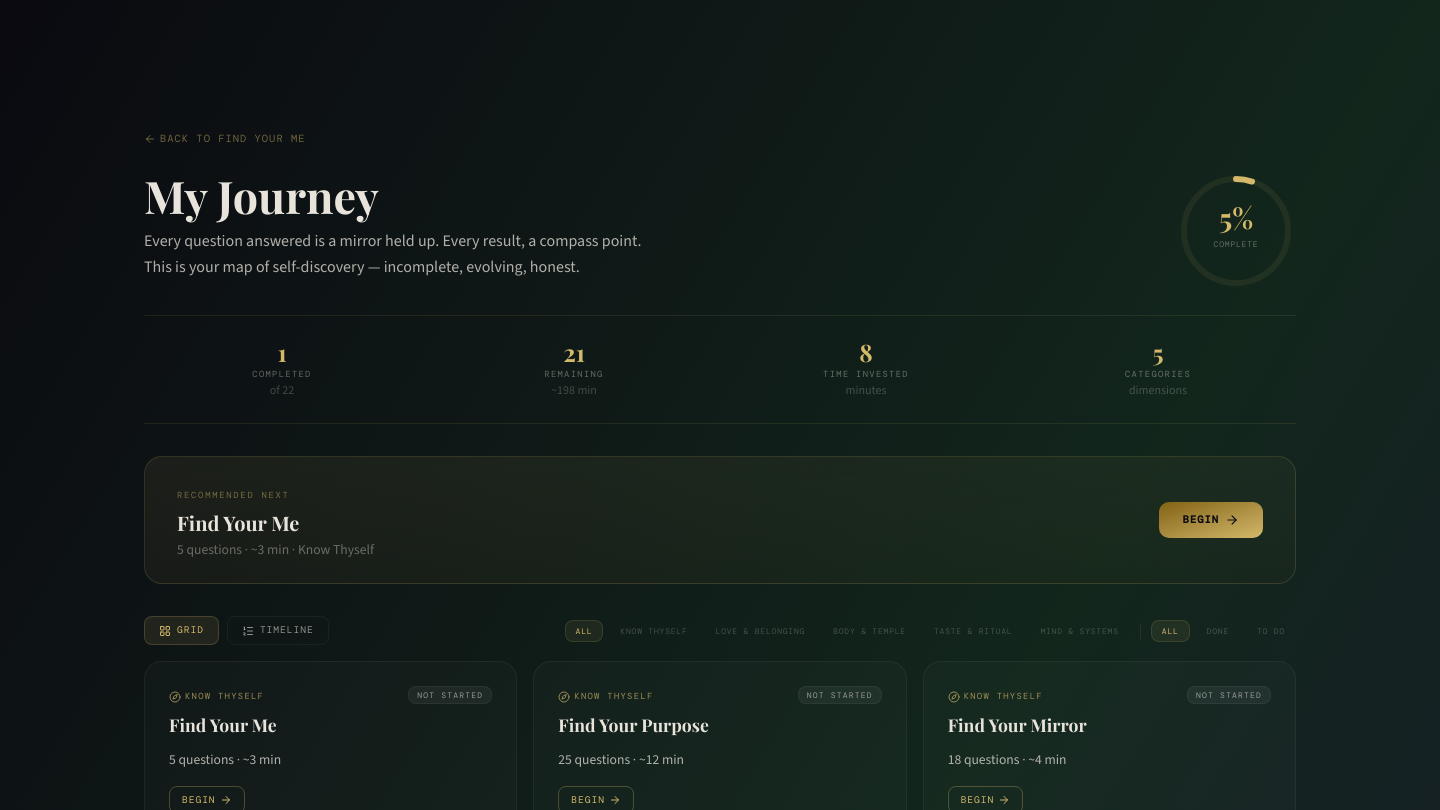
MyJourneyDashboard › filters by category and by status, with an empty-state message in grid view only
Click the button "Body & Temple": x=870, y=631 [822,620,917,642]
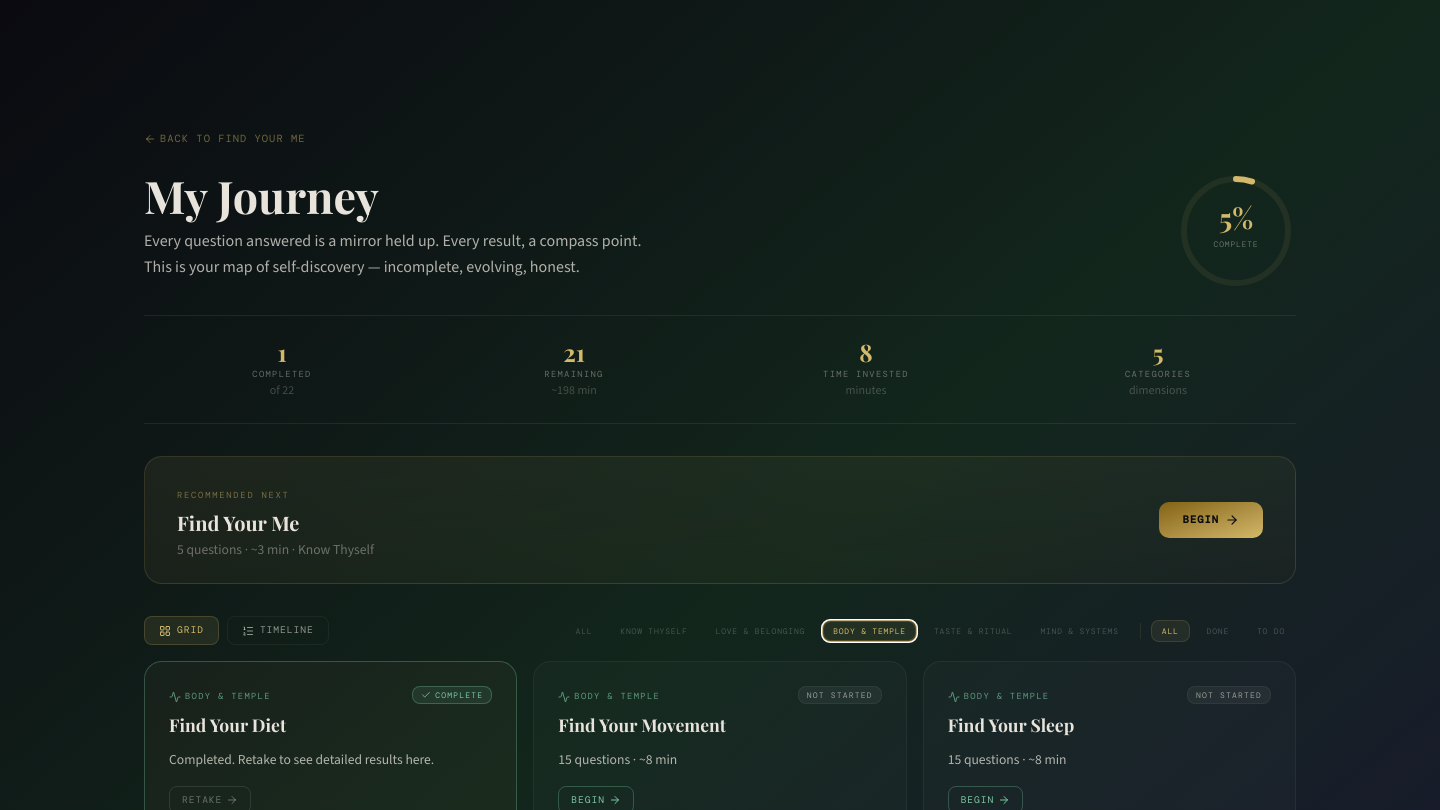
Click the button "Done": x=1218, y=631 [1196,620,1240,642]
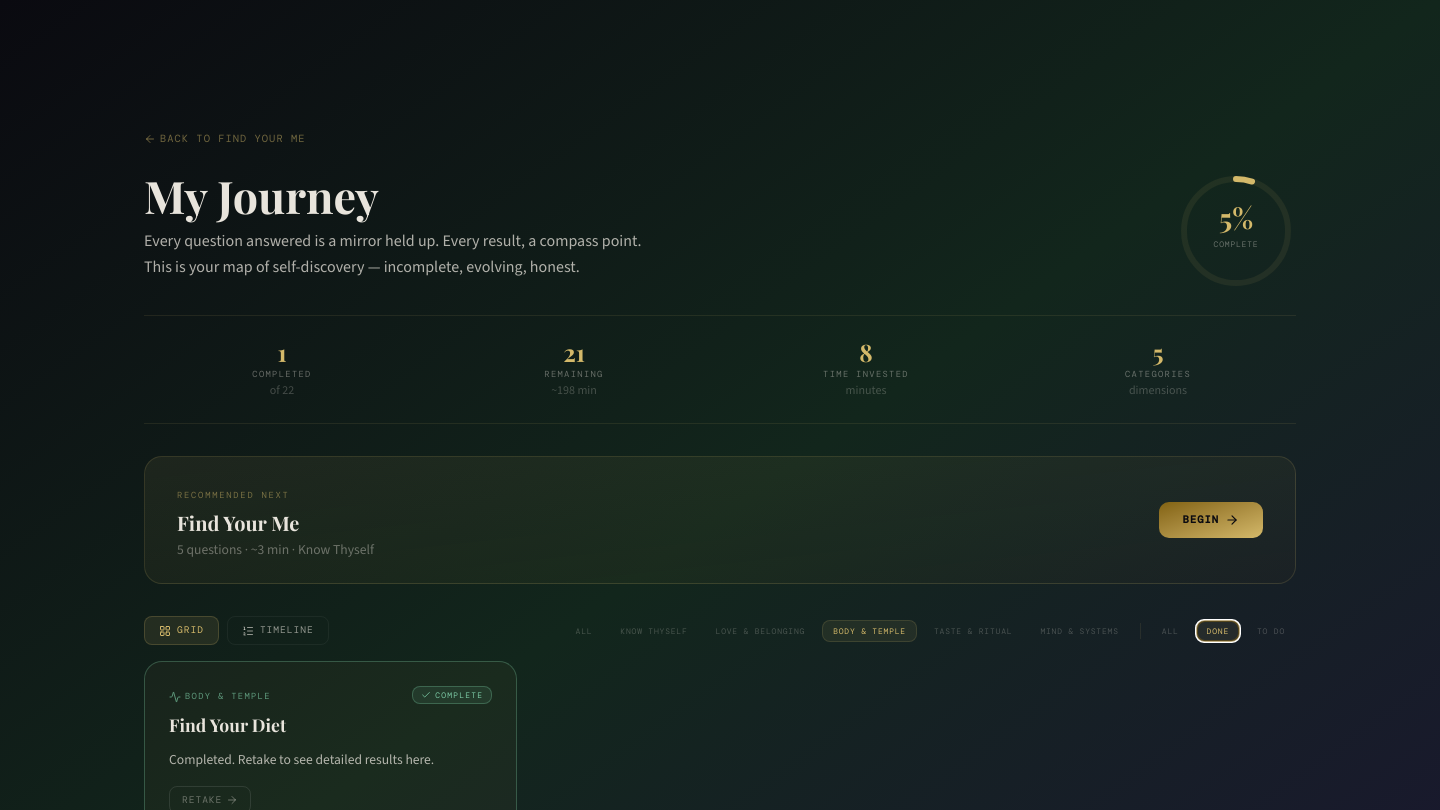
Click the button "Taste & Ritual": x=973, y=631 [923,620,1023,642]
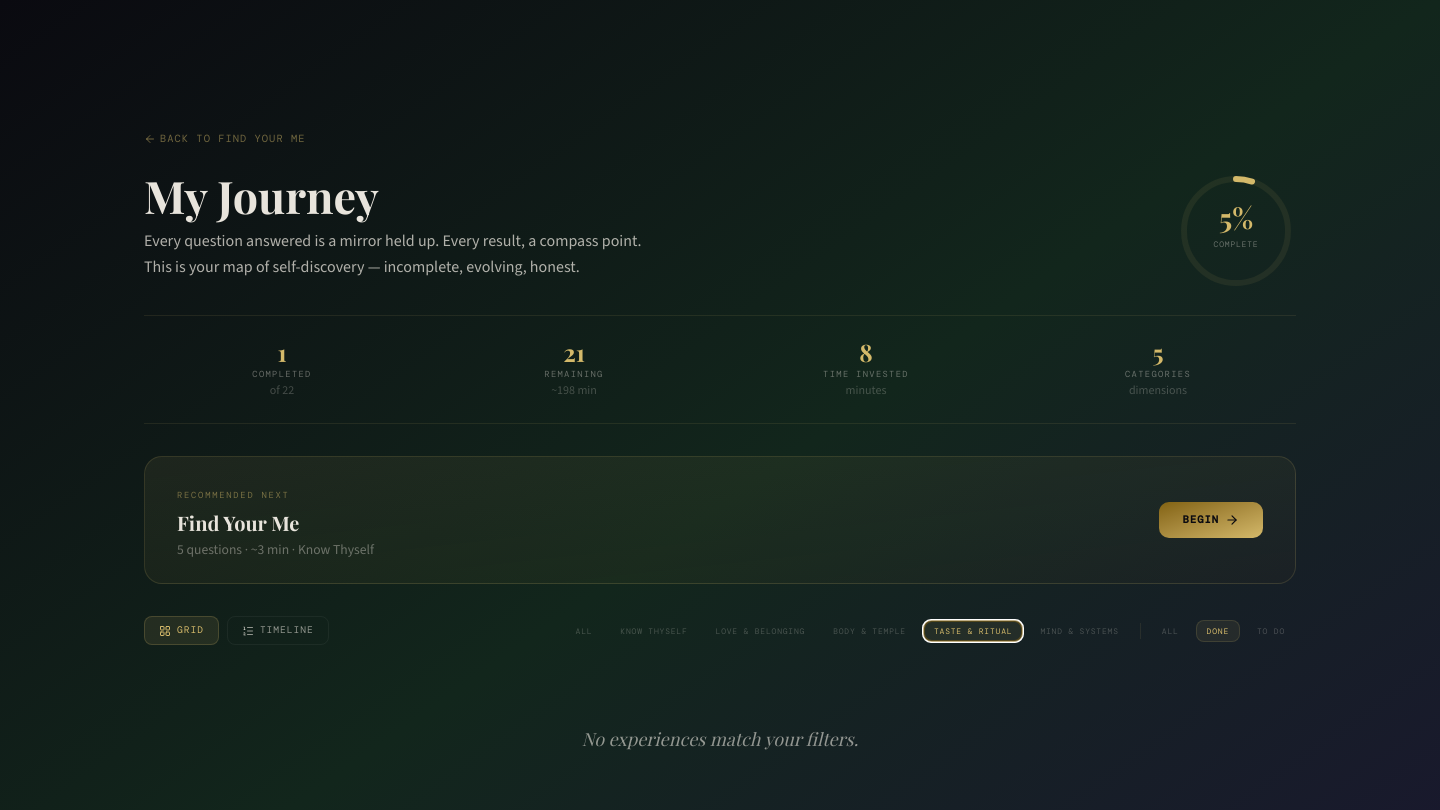
Result: the text "No experiences match your filters." is shown at [582,727,858,751]
Click the button "Timeline": x=278, y=631 [227,616,329,645]
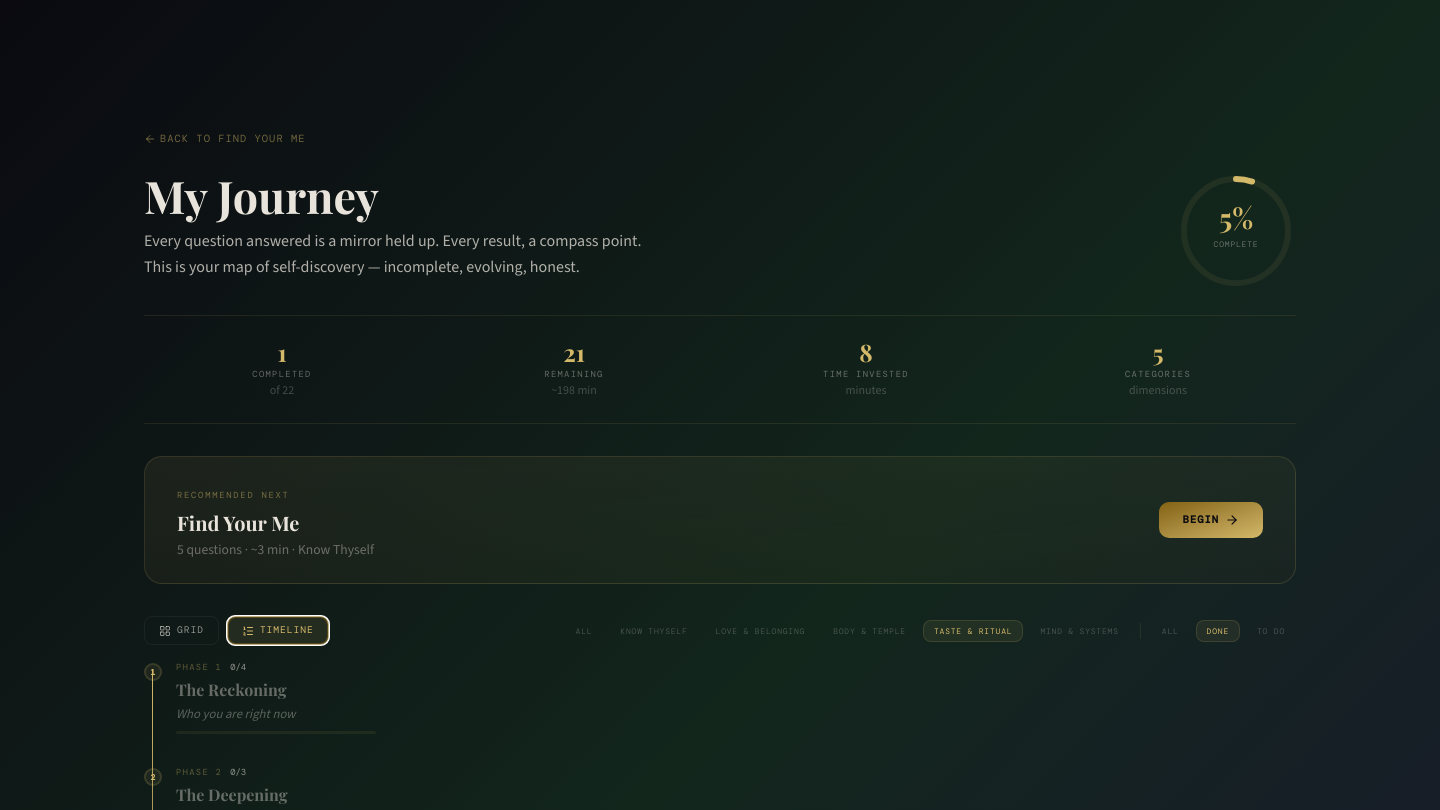
Result: the heading "The Reckoning" is shown at [176,679,287,700]
